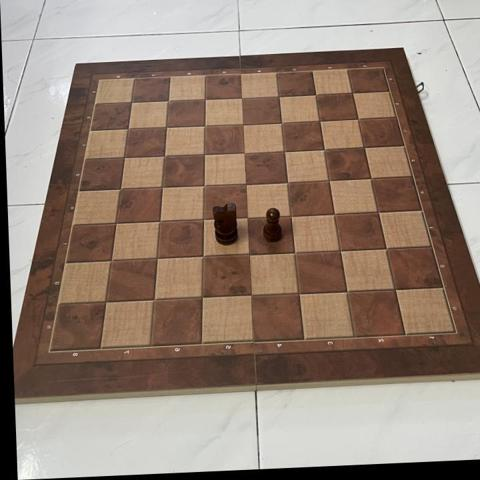xcorner: (123, 94, 140, 111), (160, 92, 177, 109), (197, 91, 214, 108), (234, 89, 251, 106), (307, 86, 324, 103), (120, 120, 137, 137), (158, 119, 175, 136), (196, 117, 213, 134), (273, 114, 290, 131), (311, 112, 328, 129), (116, 149, 133, 166), (156, 147, 173, 164), (196, 146, 213, 163), (236, 144, 253, 161), (355, 139, 372, 156), (112, 180, 129, 197), (195, 177, 212, 194), (237, 175, 254, 192), (278, 173, 295, 190), (362, 170, 379, 187), (107, 214, 124, 231), (194, 211, 211, 228), (238, 209, 255, 226), (325, 205, 342, 222), (369, 203, 386, 220), (102, 252, 119, 269), (148, 250, 165, 267), (194, 248, 211, 265), (239, 246, 256, 263), (285, 244, 302, 261), (331, 242, 348, 259), (376, 240, 393, 257), (97, 293, 114, 310), (145, 291, 162, 308), (193, 289, 210, 306), (241, 287, 258, 304), (289, 285, 306, 302), (337, 283, 354, 300), (385, 281, 402, 298), (271, 88, 287, 105), (344, 85, 361, 101), (235, 116, 252, 132), (350, 111, 366, 128), (276, 142, 292, 159), (316, 141, 332, 158), (320, 172, 337, 188), (151, 213, 168, 229), (282, 207, 298, 224), (154, 179, 170, 195)
